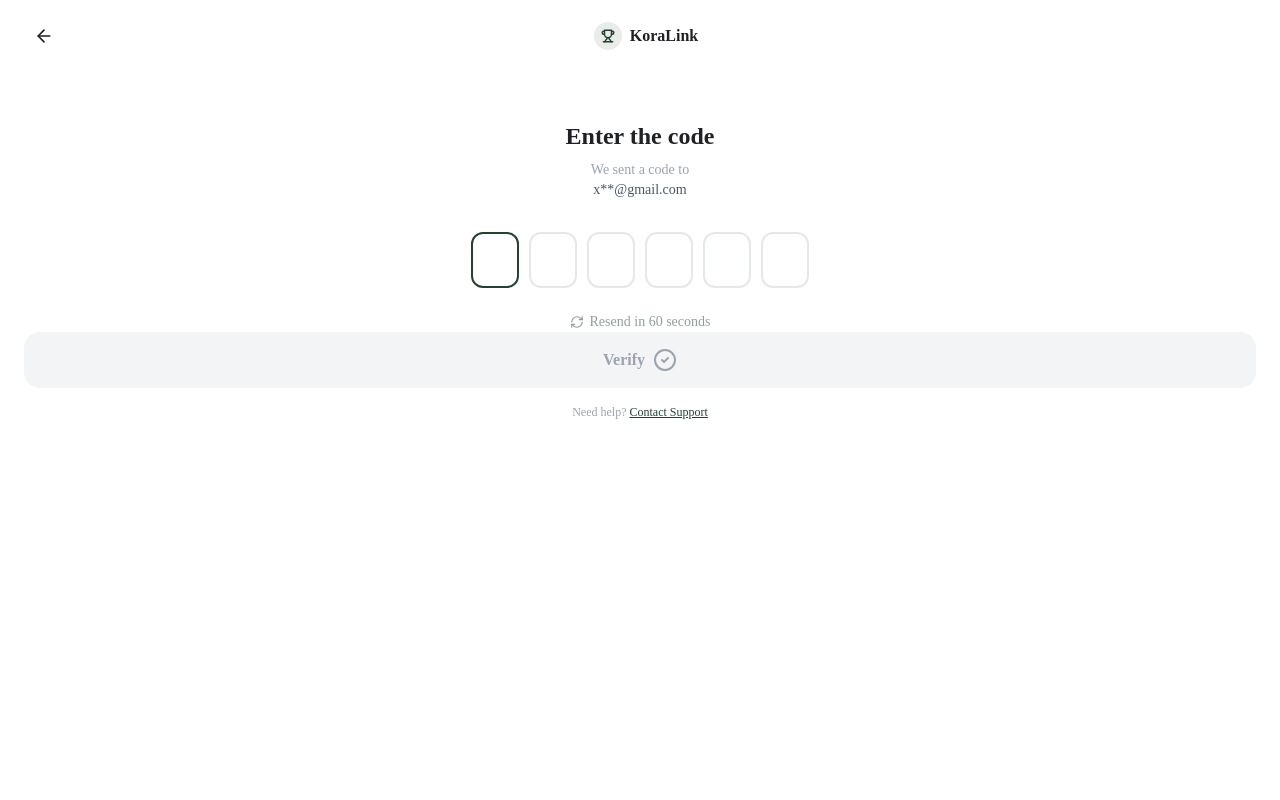
it: signup: ONE OTP, straight in (isNewUser path) › profile fetch failure: NO navigation + drafts KEPT (user can retry or edit)
The width and height of the screenshot is (1280, 800).
Type "1" into the 1st field at (495,260), box top-left (471, 232), bottom-right (519, 288)
Type "2" into the 2nd field at (553,260), box top-left (529, 232), bottom-right (577, 288)
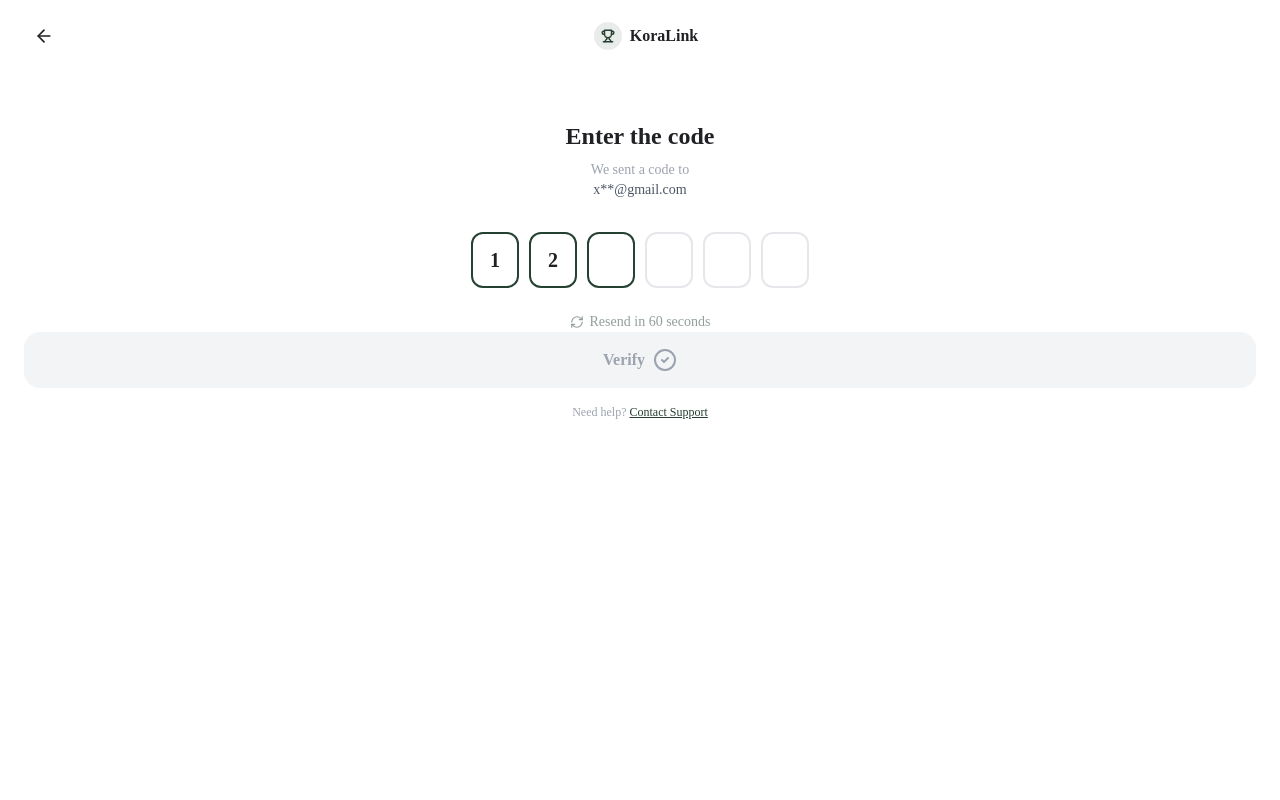
Type "3" into the 3rd field at (611,260), box top-left (587, 232), bottom-right (635, 288)
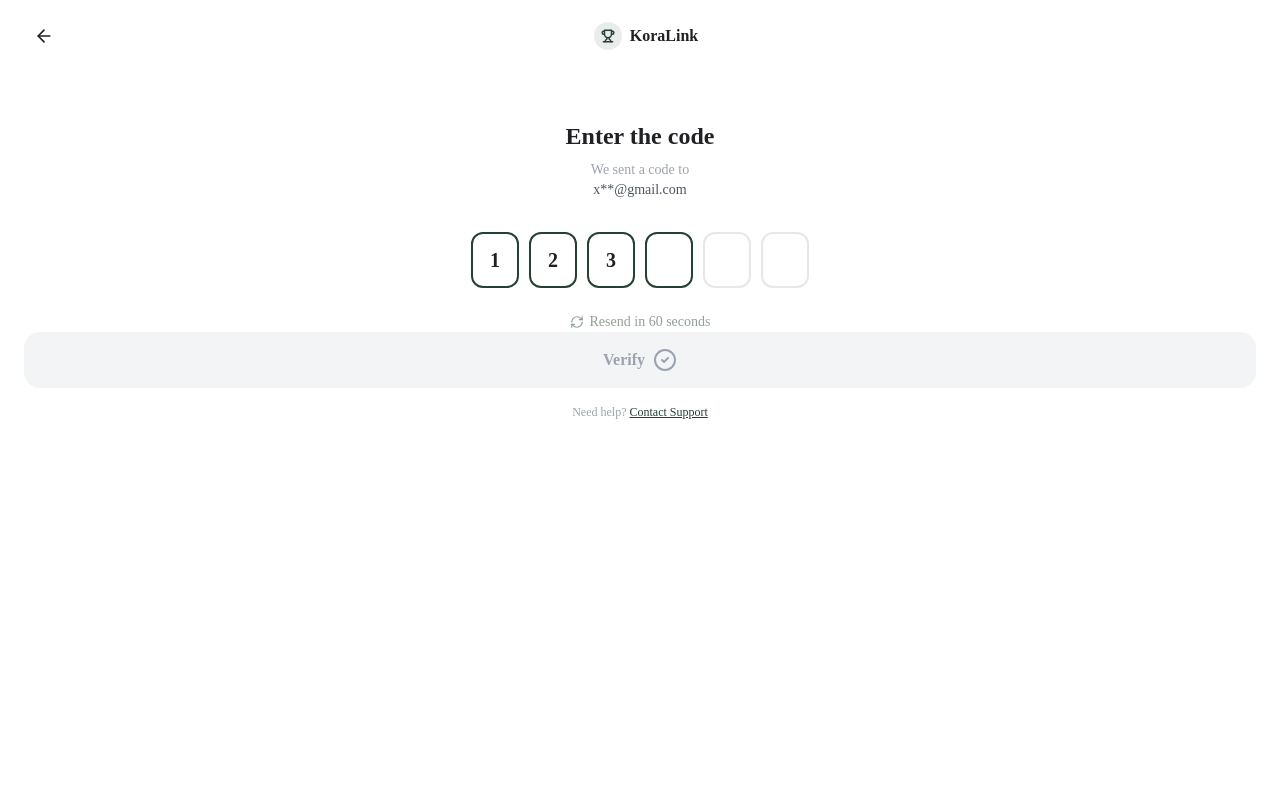
Type "4" into the 4th field at (669,260), box top-left (645, 232), bottom-right (693, 288)
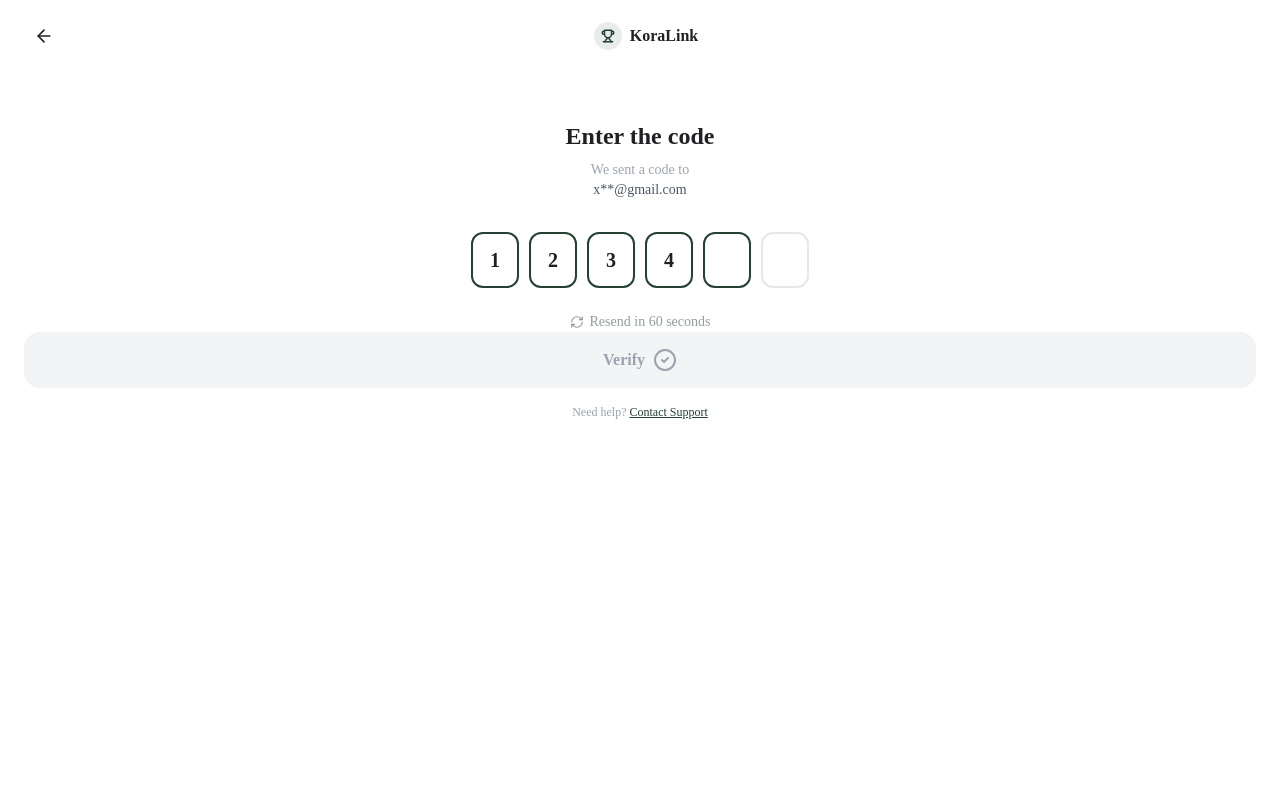
Type "5" into the 5th field at (727,260), box top-left (703, 232), bottom-right (751, 288)
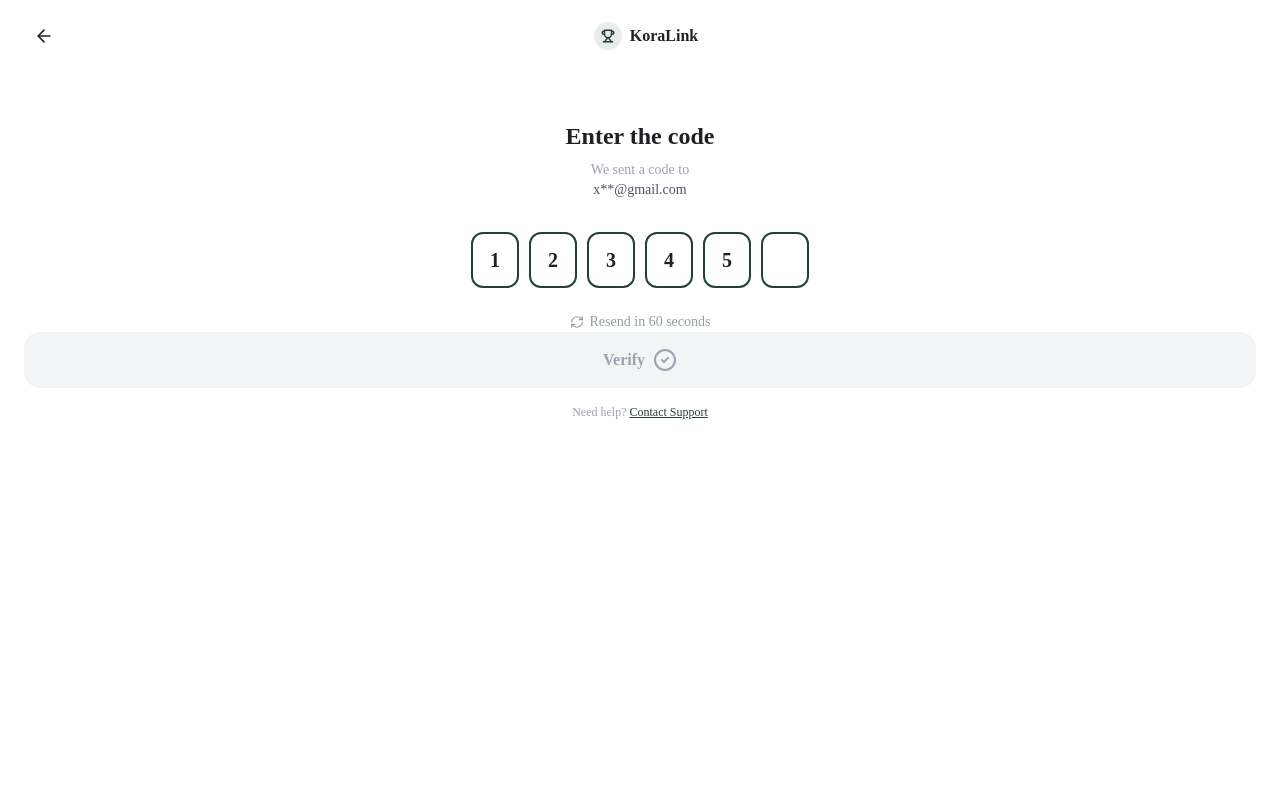
Type "6" into the 6th field at (785,260), box top-left (761, 232), bottom-right (809, 288)
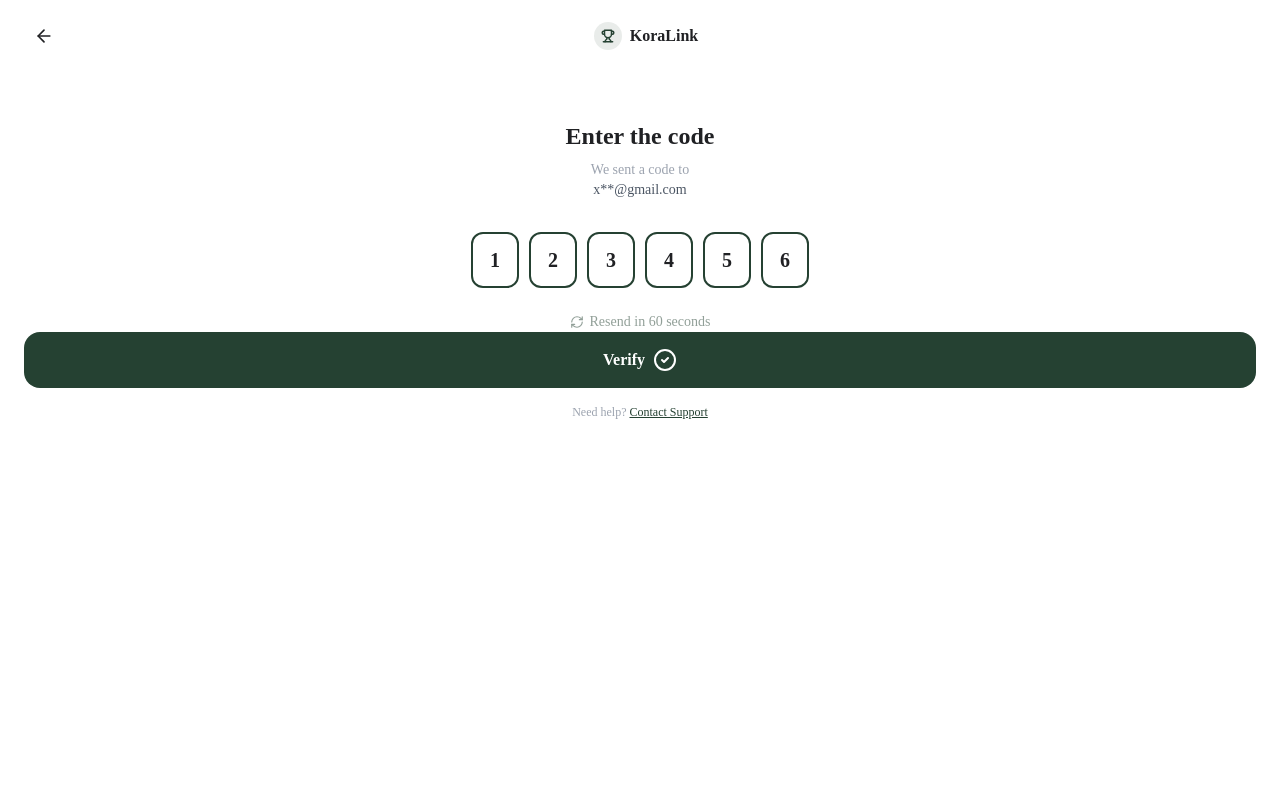
Click the button "Verify" at (640,360), box top-left (24, 332), bottom-right (1256, 388)
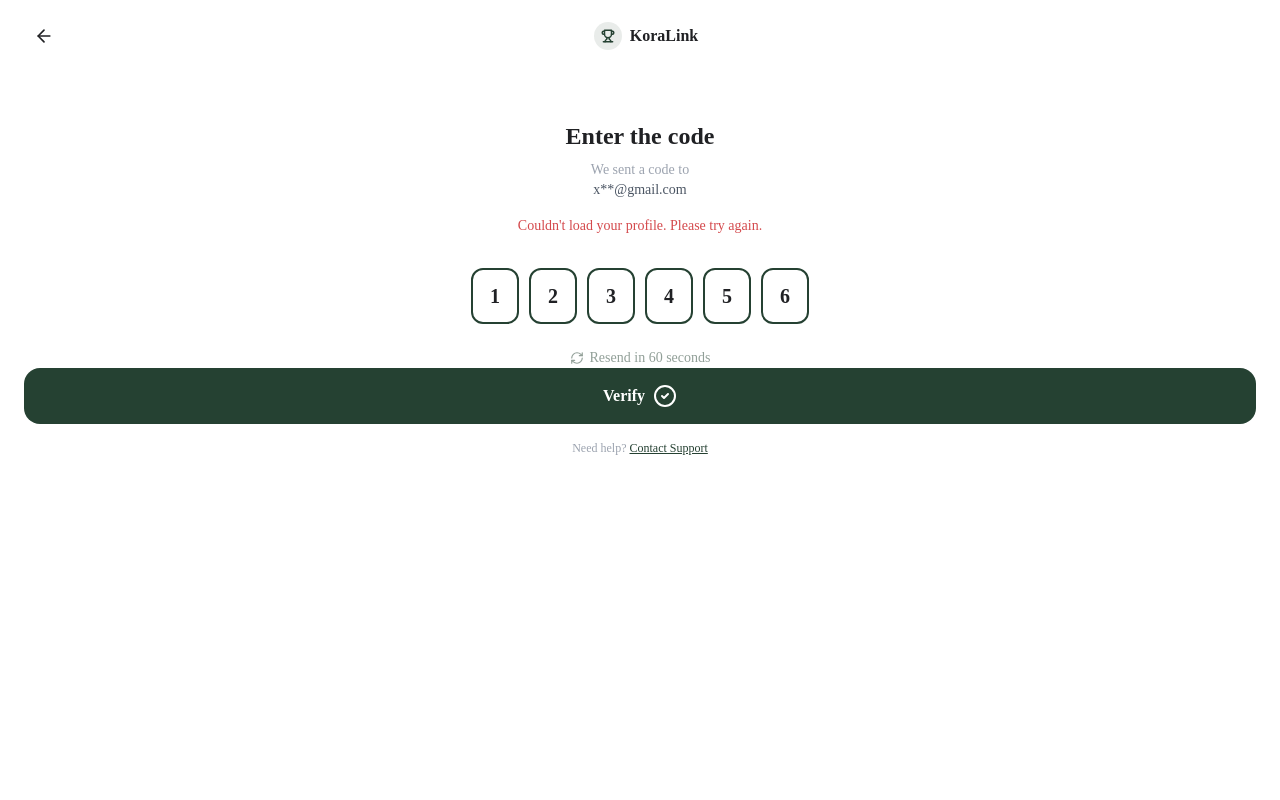
Now the text "Couldn't load your profile. Please try again." is shown, box top-left (518, 216), bottom-right (762, 236)
